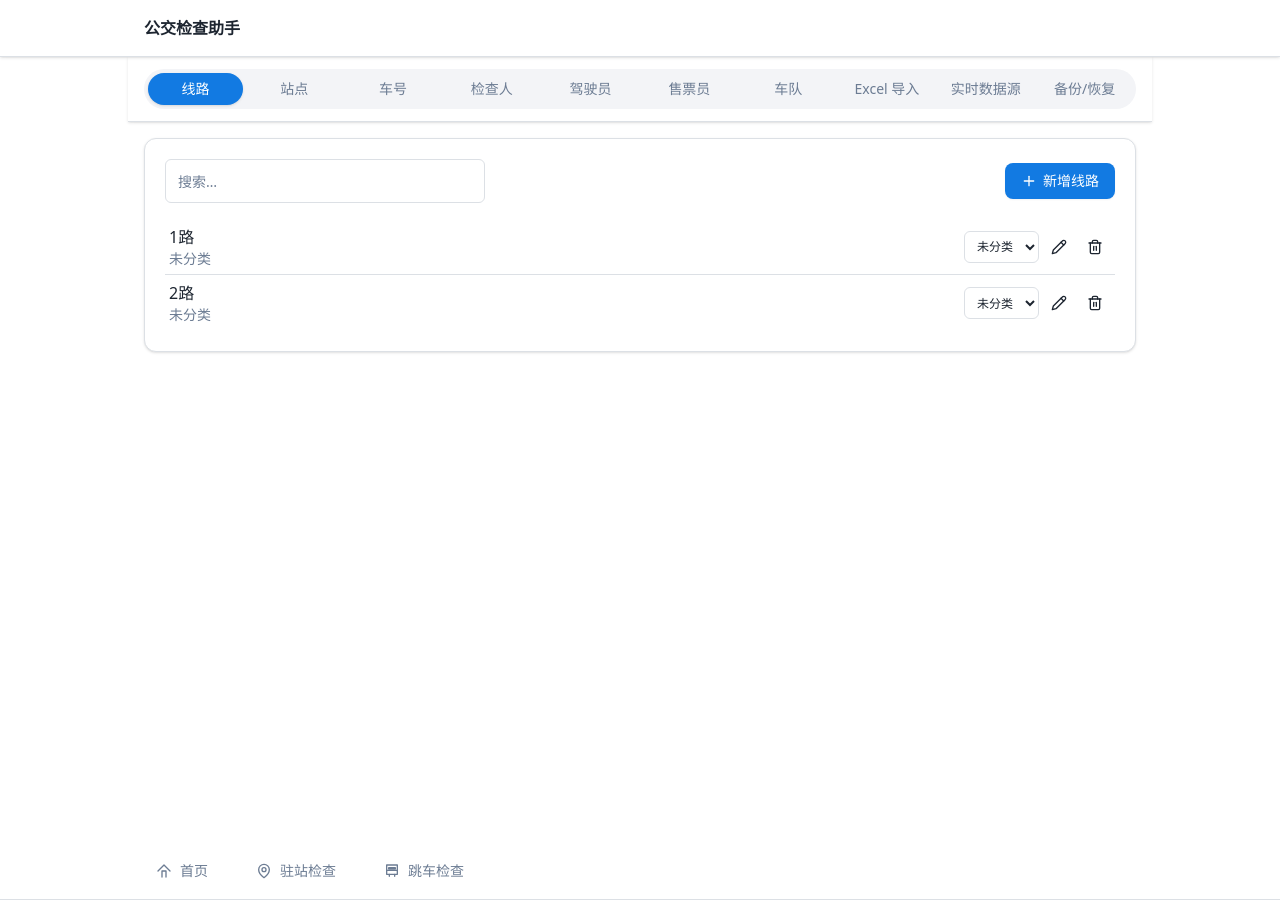
it: 基础数据站点归属编辑 › 移动到已有同名站点的线路时提示并阻止
Click the button "站点".
click(294, 89)  # box [247,73,342,105]
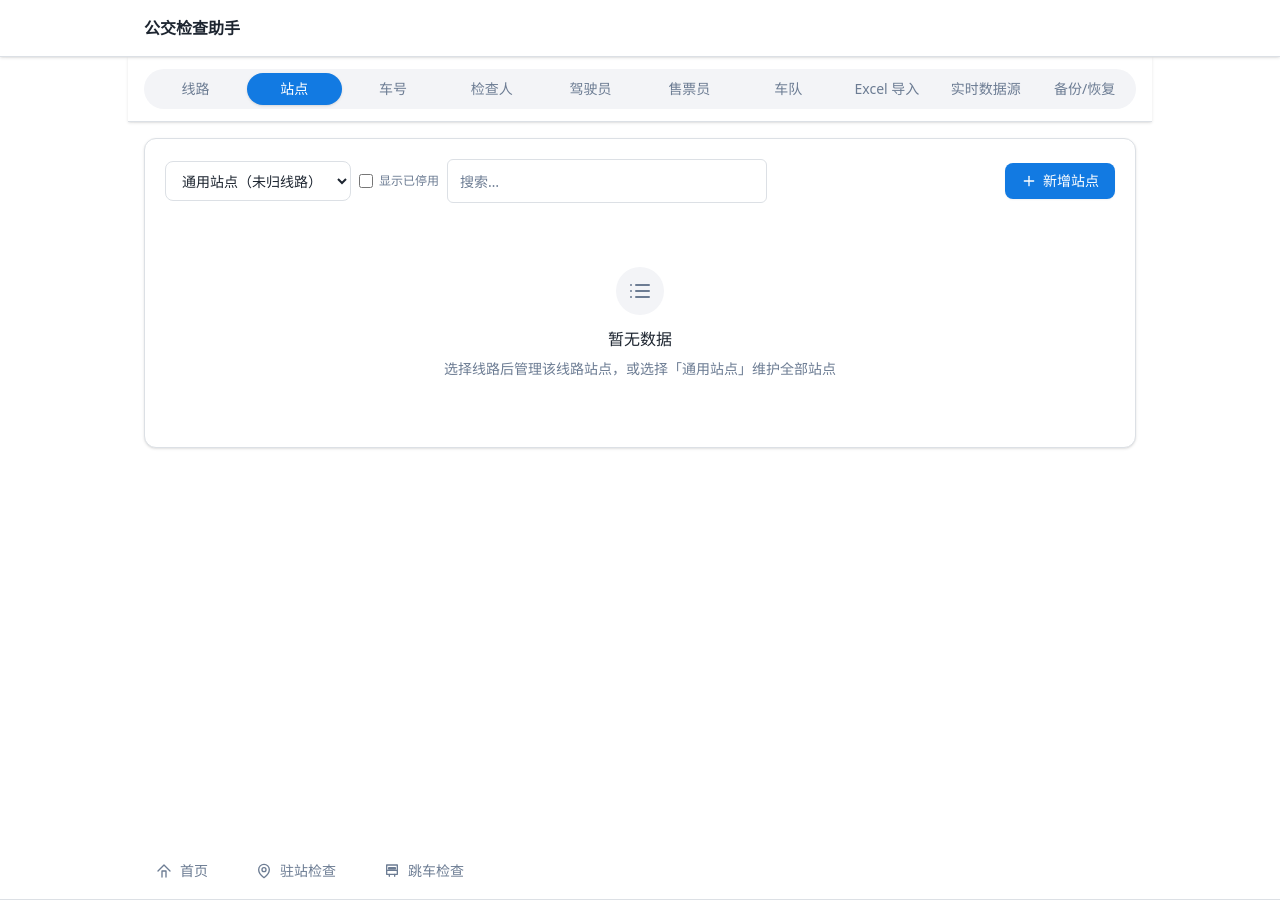
Select "1路" in the dropdown at (258, 181), box [165,161,351,201]
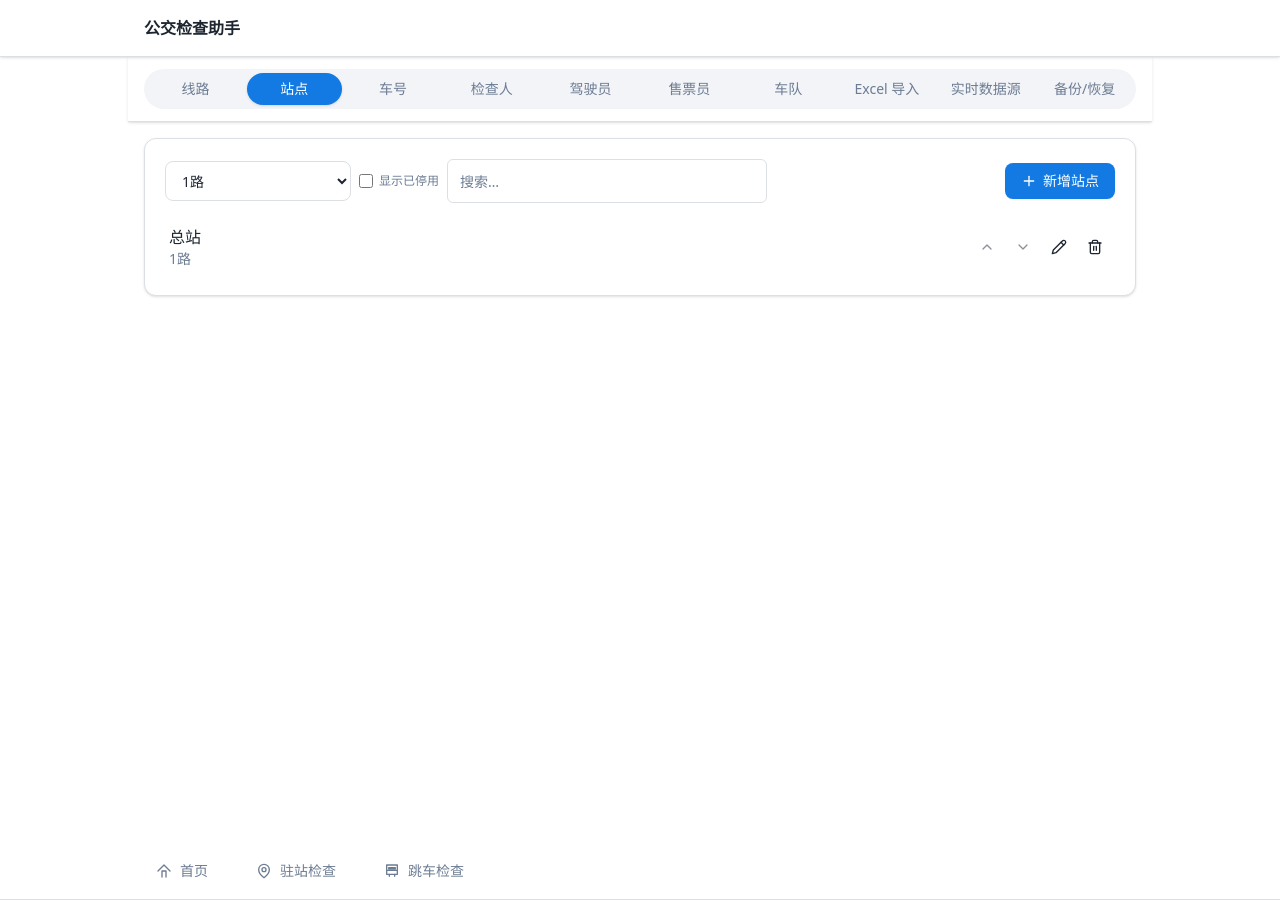
Click the button named "编辑".
click(1059, 247)  # box [1043,231,1075,263]
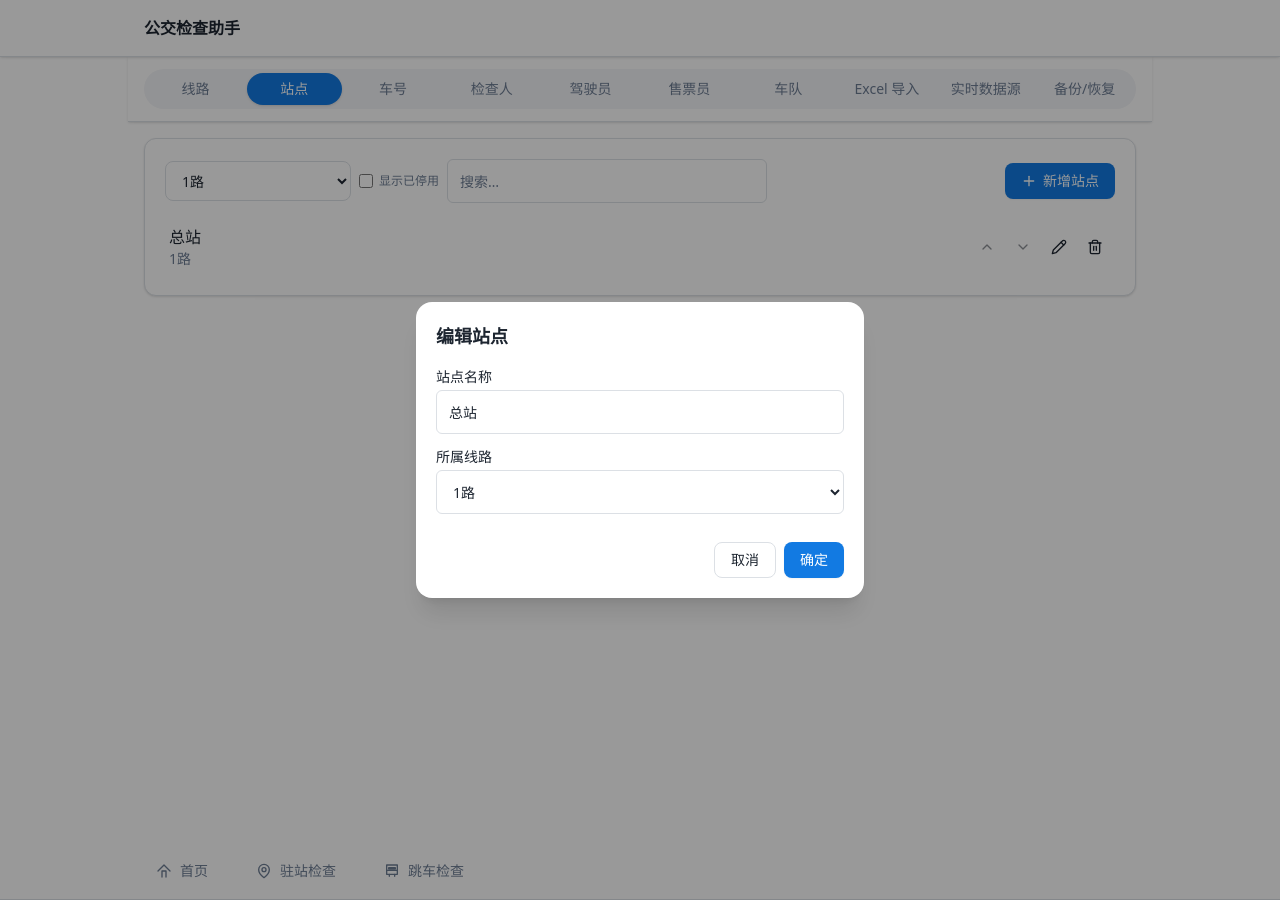
Select "2路" in the dropdown at (640, 492), box [436,470,844,514]
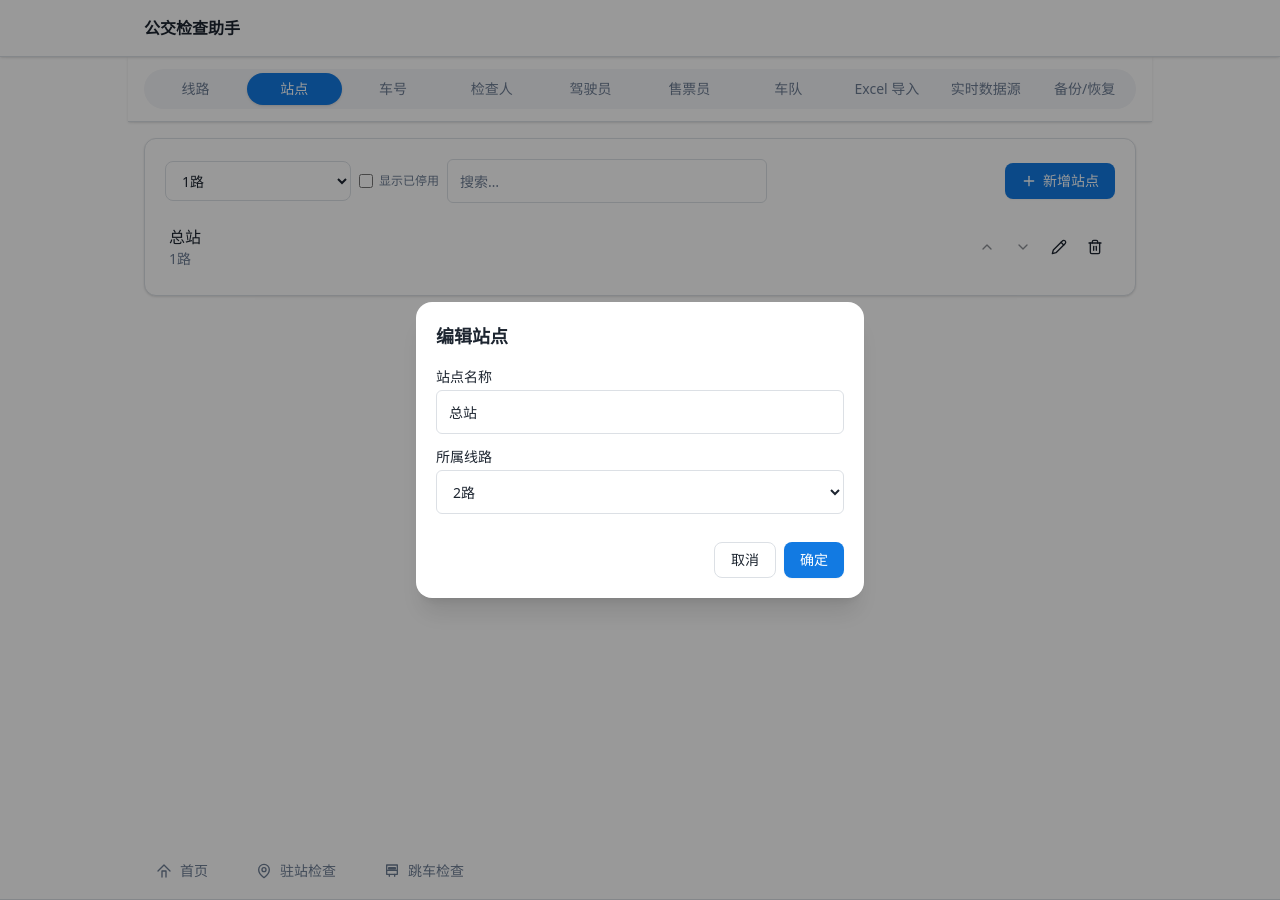
Click the button "确定".
click(814, 560)  # box [784,542,844,578]
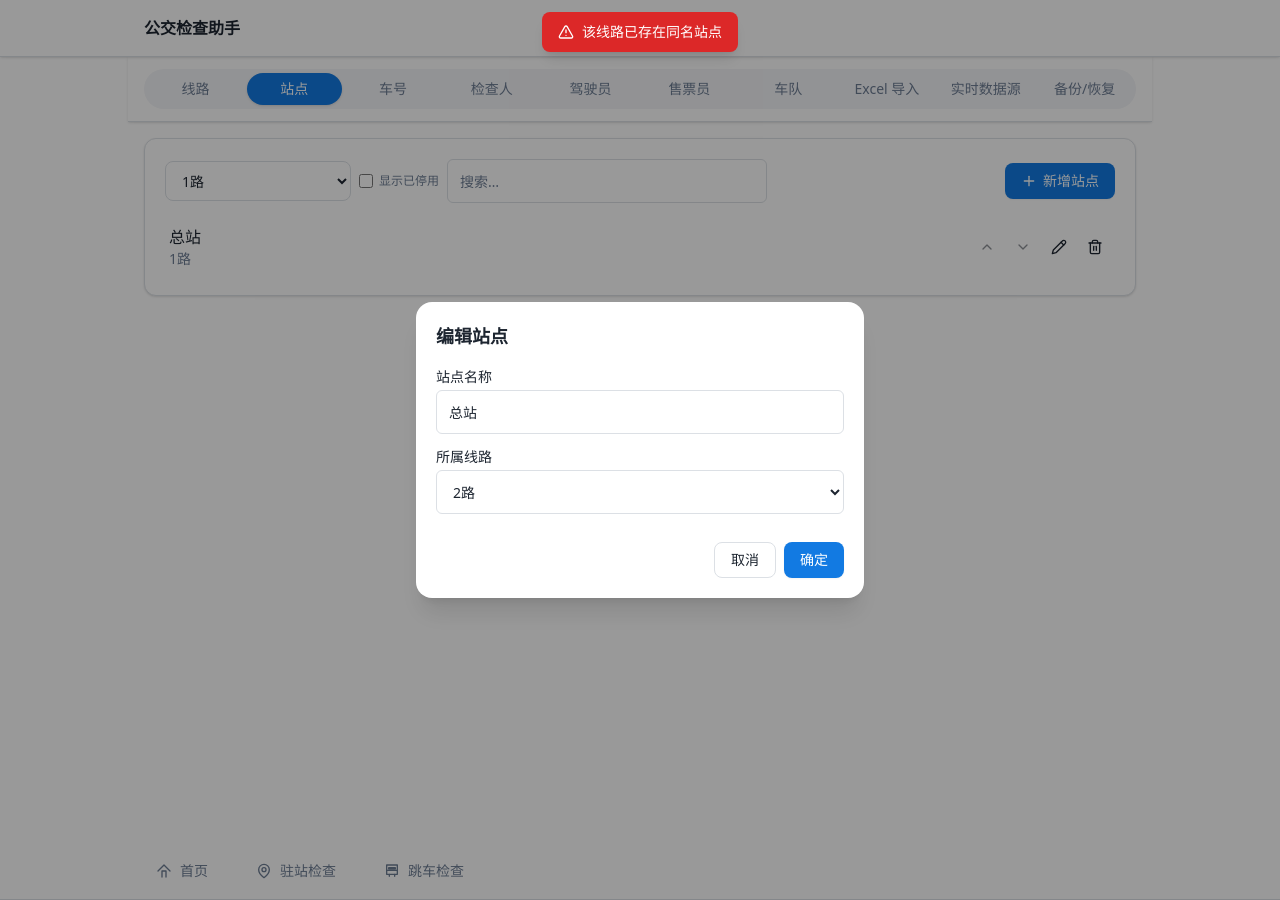
Expected: the text "该线路已存在同名站点" is shown, [582,22,722,42]
